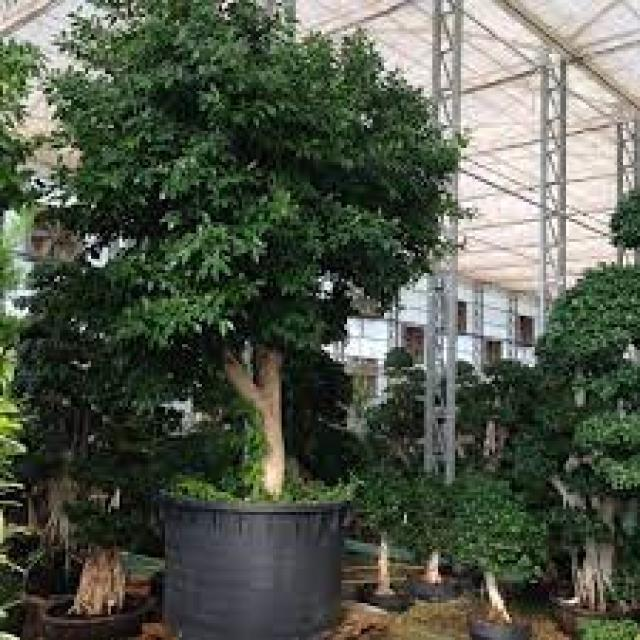tree: (56, 3, 466, 495), (503, 262, 640, 614), (432, 474, 526, 614), (344, 452, 427, 603)
